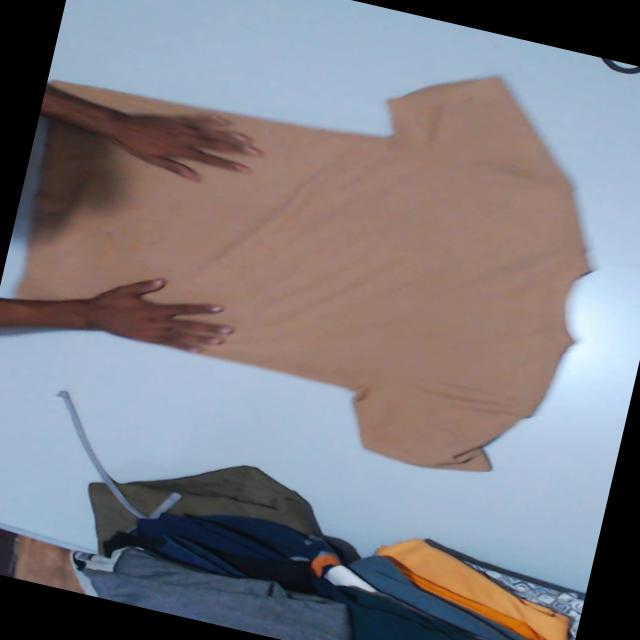new-garment: (19, 77, 589, 469), (31, 121, 105, 236), (46, 81, 159, 108), (90, 169, 116, 205)
